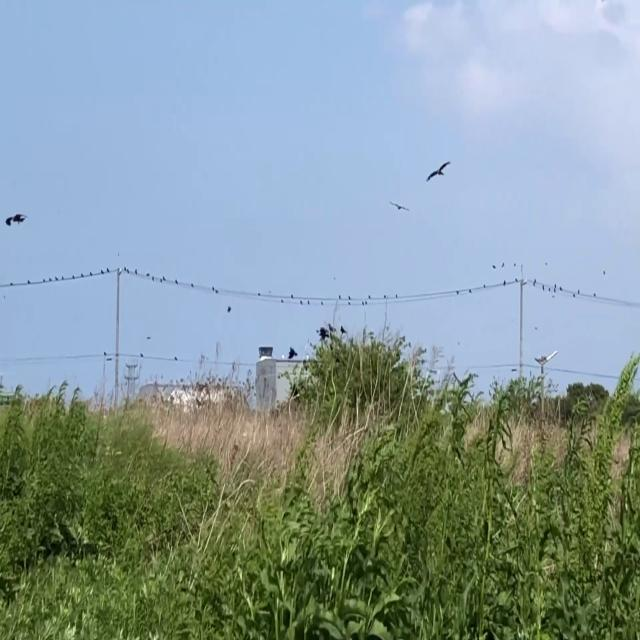bird: (427, 152, 450, 190), (6, 204, 26, 232), (390, 195, 408, 217), (492, 258, 496, 270)
